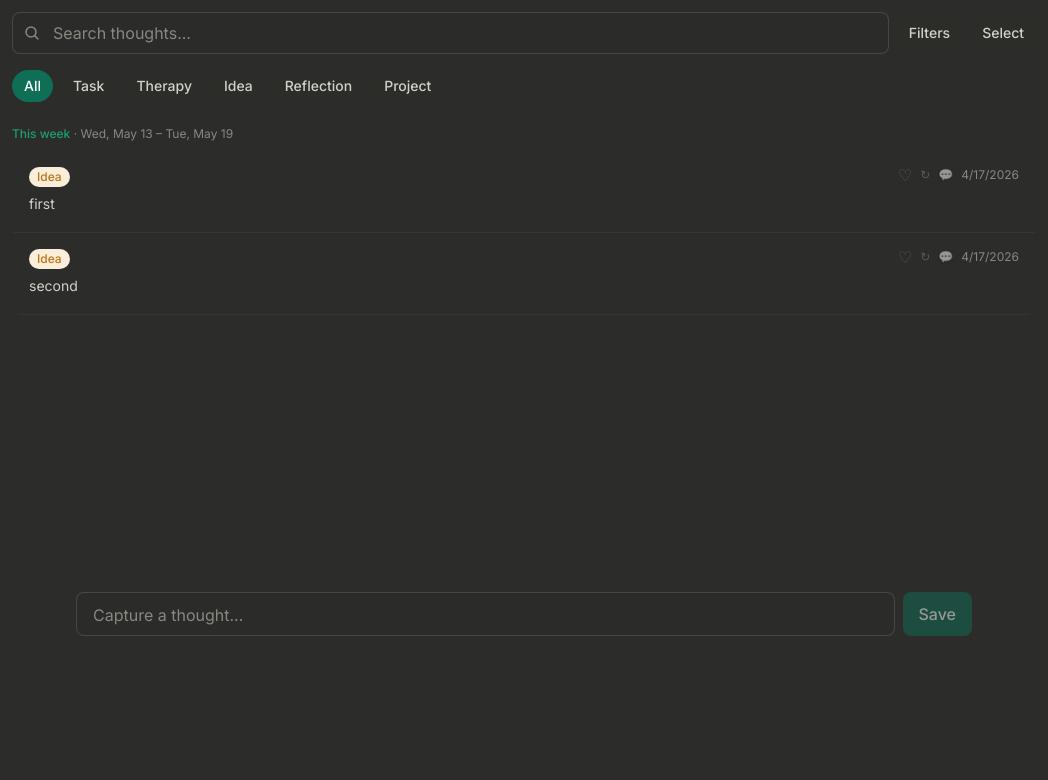
Test case: ThoughtsPage — deferred-commit delete (Phase 101 D-15, D-16) › on API failure: restores row and shows error toast "Couldn't delete. Try again." (D-20)
This screenshot has width=1048, height=780.
Right-click the text "first" at x=524, y=192, box 13,151 -> 1035,233
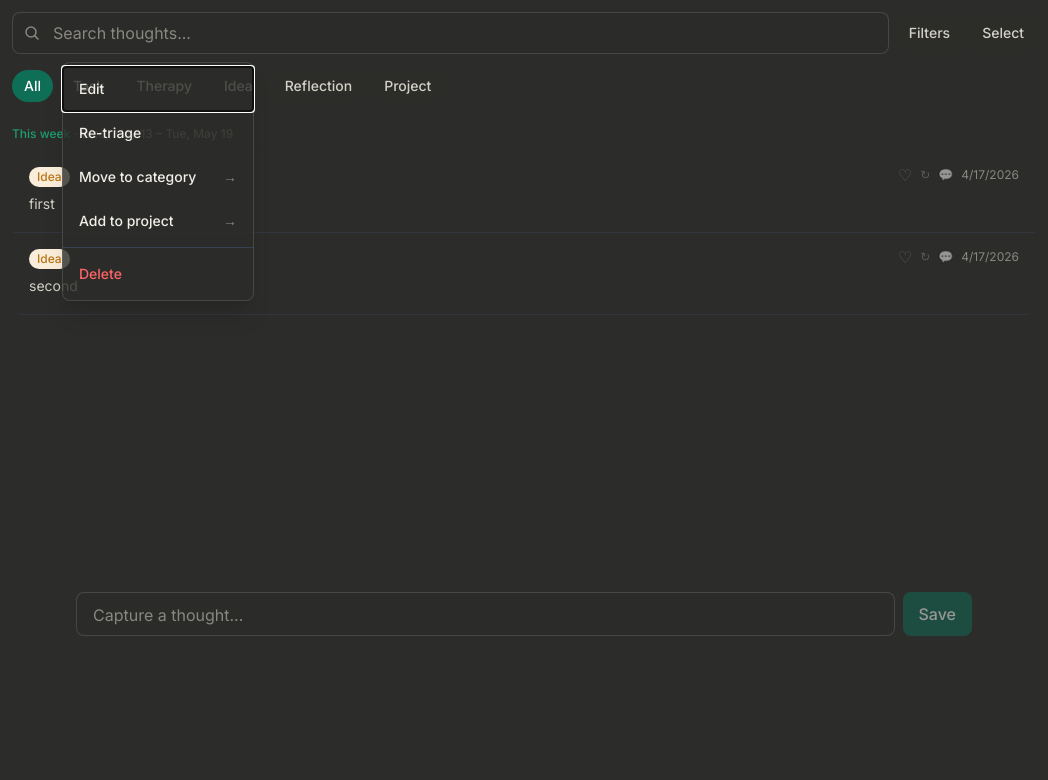
Click the menu item "Delete" at x=158, y=274, box 63,252 -> 253,296
Wait 5000 ms
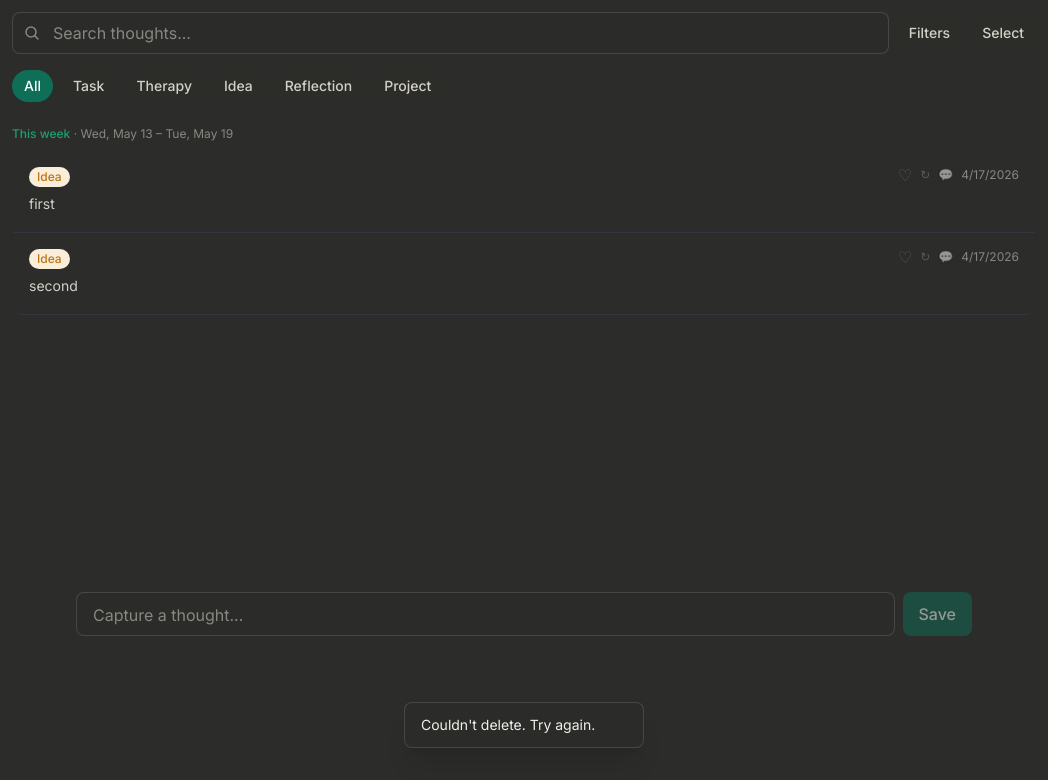
Expected: the text "first" is shown, 29,195 -> 55,212
Expected: the text "Couldn't delete. Try again." is shown, 421,715 -> 595,735
